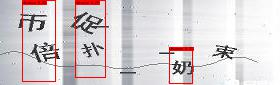chinese: (70, 10, 108, 34), (13, 10, 49, 35), (31, 42, 61, 65), (170, 56, 199, 79), (212, 38, 236, 64), (79, 38, 104, 61)
